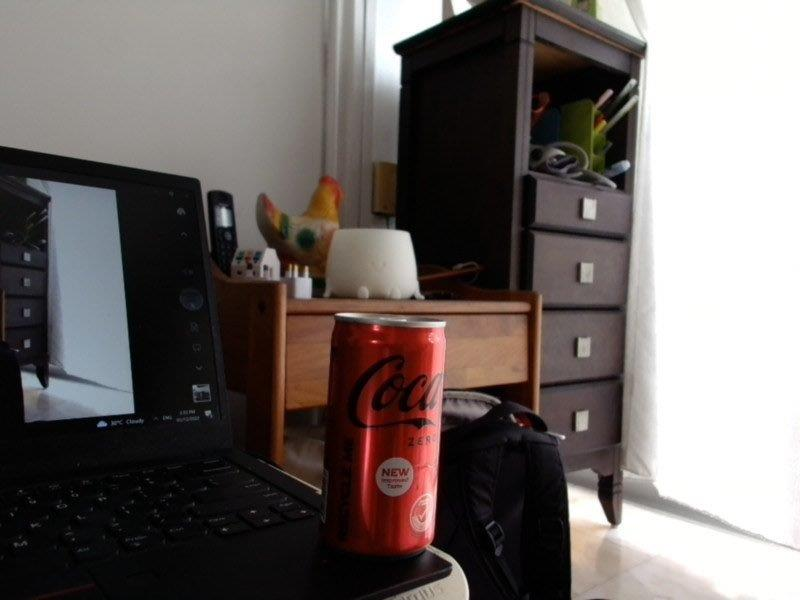Coke: (325, 310, 445, 567)
